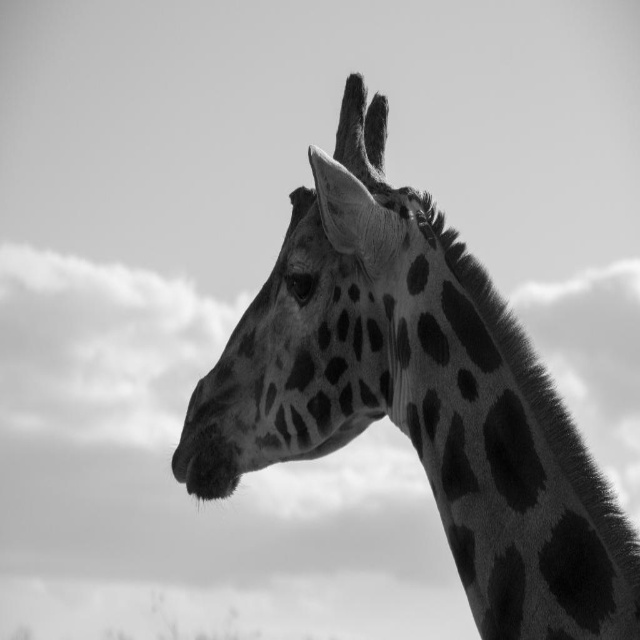Giraffe: (170, 71, 640, 639)
